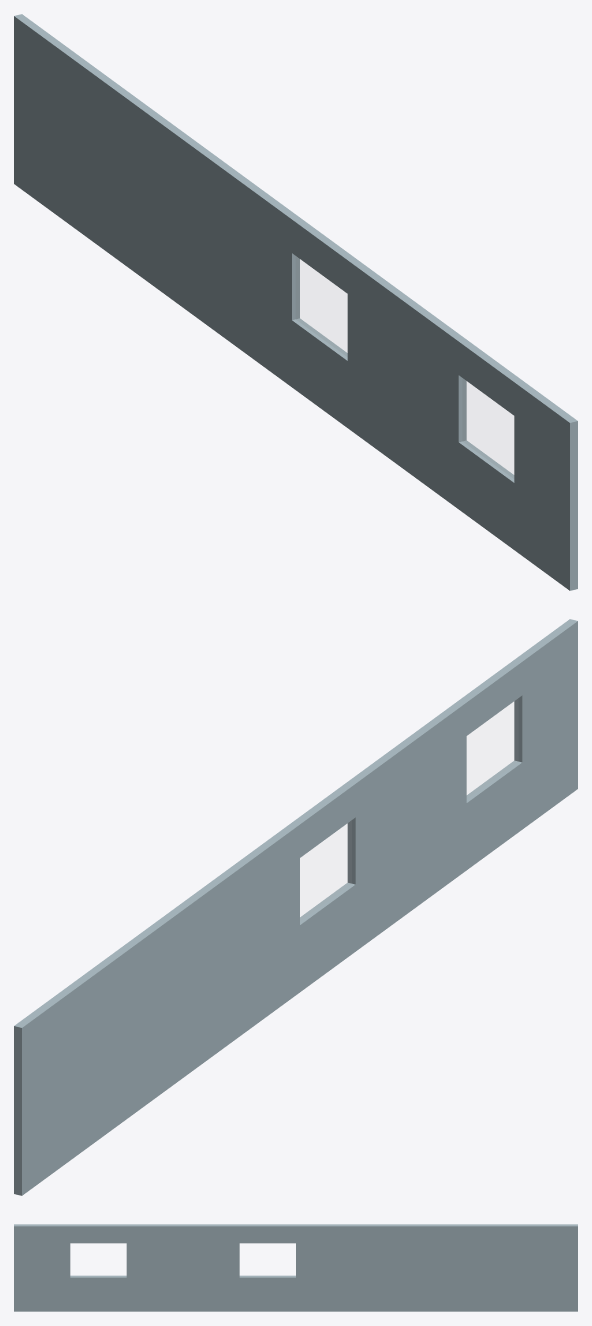
The model's file is wall_right.gltf.
3 renders of one model, top to bottom at view 1: azimuth 30°, elevation 25°; view 2: azimuth 150°, elevation 25°; view 3: azimuth 270°, elevation 25°, orthographic. The views are drawn at different scales.
Parts seen in each view (by area): view 1: wall.001; view 2: wall.001; view 3: wall.001.
Part boxes in pixels (left/top/right/bottom): wall.001: left=14, top=14, right=577, bottom=590; wall.001: left=14, top=619, right=577, bottom=1195; wall.001: left=14, top=1224, right=577, bottom=1311.
Size of the model in its own units: 2 by 40 by 240.
